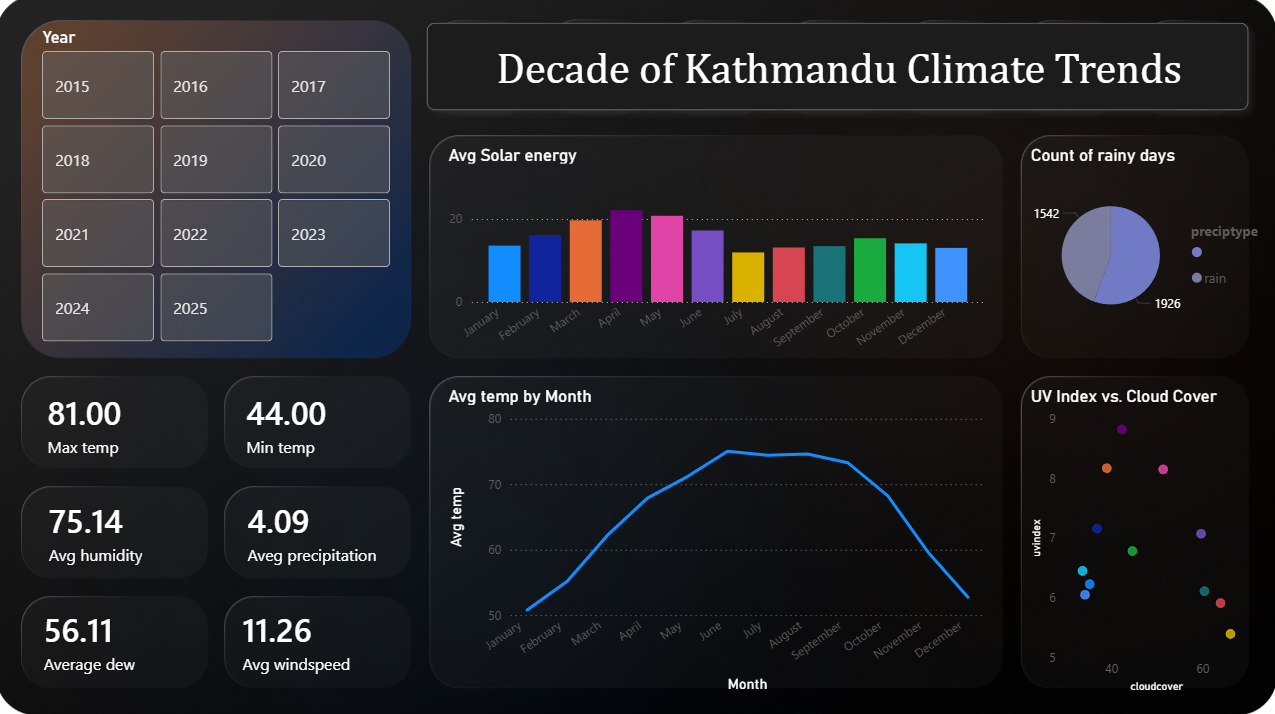

The dashboard page shown, as its layout file describes it:
{"tool":"powerbi","page":{"name":"Page 1","canvas":[1280,720],"ordinal":0},"visuals":[{"type":"advancedSlicerVisual","fields":{"Values":["kathmandu weather.datetime.Variation.Date Hierarchy.Year"]},"box":[41.4,30,360,320],"z":0},{"type":"lineChart","fields":{"Category":["kathmandu weather.datetime.Variation.Date Hierarchy.Month"],"Y":["Avg(kathmandu weather.temp)"]},"box":[447.1,388.6,545.7,311.4],"z":1000},{"type":"cardVisual","fields":{"Data":["Max(kathmandu weather.temp)"]},"box":[22.9,372.9,184.3,108.6],"z":2000},{"type":"cardVisual","fields":{"Data":["Min(kathmandu weather.temp)"]},"box":[221.4,372.9,184.3,108.6],"z":3000},{"type":"cardVisual","fields":{"Data":["Avg(kathmandu weather.humidity)"]},"box":[24.3,481.4,184.3,108.6],"z":4000},{"type":"cardVisual","fields":{"Data":["Avg(kathmandu weather.precipitation)"]},"box":[222.9,481.4,195.7,108.6],"z":5000},{"type":"cardVisual","fields":{"Data":["Avg(kathmandu weather.dew)"]},"box":[18.6,590,195.7,108.6],"z":6000},{"type":"cardVisual","fields":{"Data":["Avg(kathmandu weather.windspeed)"]},"box":[217.1,590,195.7,108.6],"z":7000},{"type":"pieChart","title":"Count of rainy days","fields":{"Category":["kathmandu weather.preciptype"],"Y":["CountNonNull(kathmandu weather.preciptype)"]},"box":[1030,147.1,250,202.9],"z":8000},{"type":"columnChart","title":"Avg Solar energy","fields":{"Category":["kathmandu weather.datetime.Variation.Date Hierarchy.Month"],"Y":["Avg(kathmandu weather.solarenergy)"],"Series":["kathmandu weather.datetime.Variation.Date Hierarchy.Month"]},"box":[447.1,147.1,545.7,225.7],"z":9000},{"type":"scatterChart","title":"UV Index vs. Cloud Cover","fields":{"Y":["Avg(kathmandu weather.uvindex)"],"X":["Avg(kathmandu weather.cloudcover)"],"Category":["kathmandu weather.datetime.Variation.Date Hierarchy.Month"],"Series":["kathmandu weather.datetime.Variation.Date Hierarchy.Month"]},"box":[1030,388.6,234.3,311.4],"z":10000},{"type":"shape","box":[418.6,14.3,845.7,111.4],"z":10001},{"type":"textbox","box":[447.1,40,791.4,65.7],"z":10002}]}

Visuals, with their boxes in screenshot pixels (x1, y1, x2, y2), scaled from the page's 1280x720 canvas onto the 1275x714 screenshot:
advancedSlicerVisual - kathmandu weather.datetime.Variation.Date Hierarchy.Year: 41:30:400:347
lineChart - kathmandu weather.datetime.Variation.Date Hierarchy.Month x Avg(kathmandu weather.temp): 445:385:989:694
cardVisual - Max(kathmandu weather.temp): 23:370:206:477
cardVisual - Min(kathmandu weather.temp): 221:370:404:477
cardVisual - Avg(kathmandu weather.humidity): 24:477:208:585
cardVisual - Avg(kathmandu weather.precipitation): 222:477:417:585
cardVisual - Avg(kathmandu weather.dew): 19:585:213:693
cardVisual - Avg(kathmandu weather.windspeed): 216:585:411:693
"Count of rainy days" pieChart: 1026:146:1274:347
"Avg Solar energy" columnChart: 445:146:989:370
"UV Index vs. Cloud Cover" scatterChart: 1026:385:1259:694
shape: 417:14:1259:125
textbox: 445:40:1234:105
